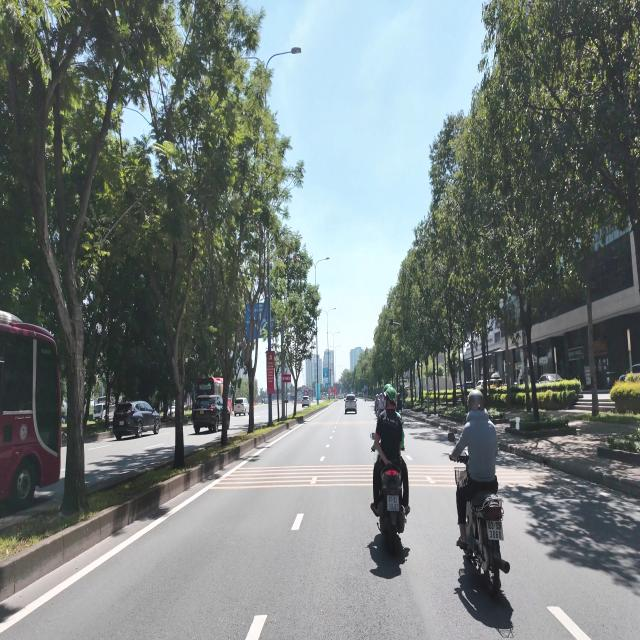car: (113, 401, 160, 440), (193, 395, 223, 433), (233, 398, 249, 416), (345, 394, 356, 413), (301, 396, 310, 407)
motorcycle: (465, 492, 509, 596), (378, 464, 406, 554)
